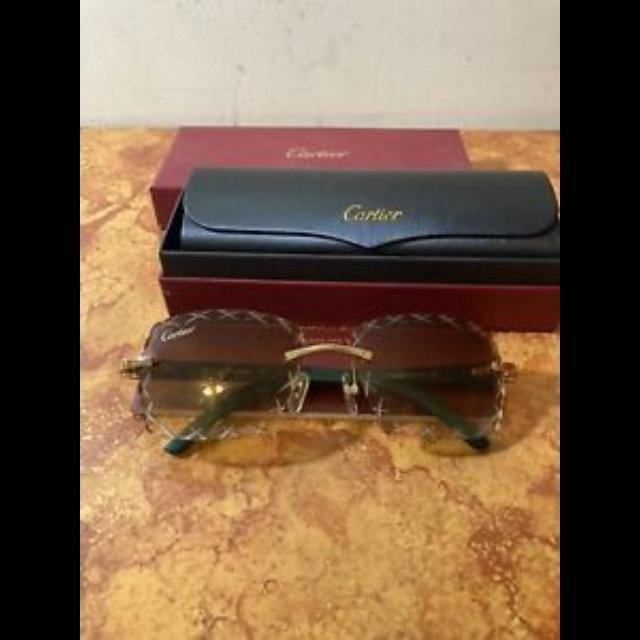sunglasses: (118, 310, 520, 458)
